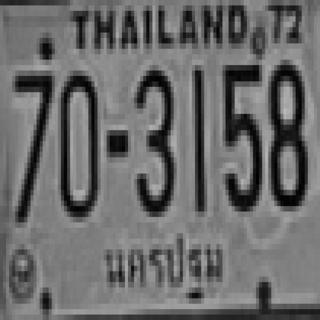N00: (58, 65, 98, 217)
N01: (192, 65, 204, 212)
N03: (134, 65, 174, 212)
N05: (222, 62, 259, 209)
N07: (12, 68, 52, 220)
N08: (268, 60, 305, 206)
P28: (94, 227, 230, 308)
